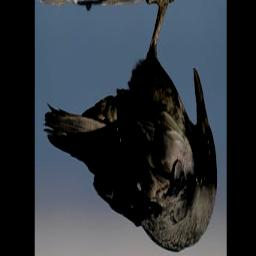Crow: (43, 0, 218, 255)
